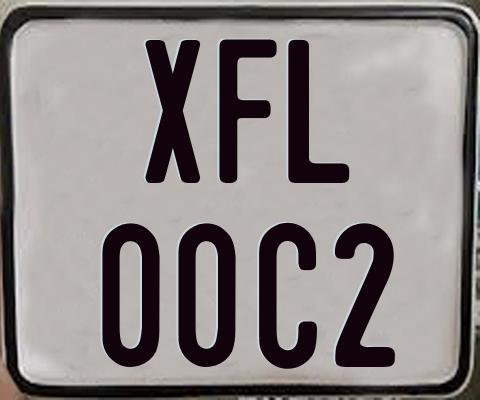0: (177, 221, 239, 371), (102, 221, 161, 365)
2: (333, 221, 393, 370)
C: (257, 221, 316, 368)
F: (218, 37, 279, 187)
L: (288, 38, 350, 184)
X: (145, 38, 201, 183)
